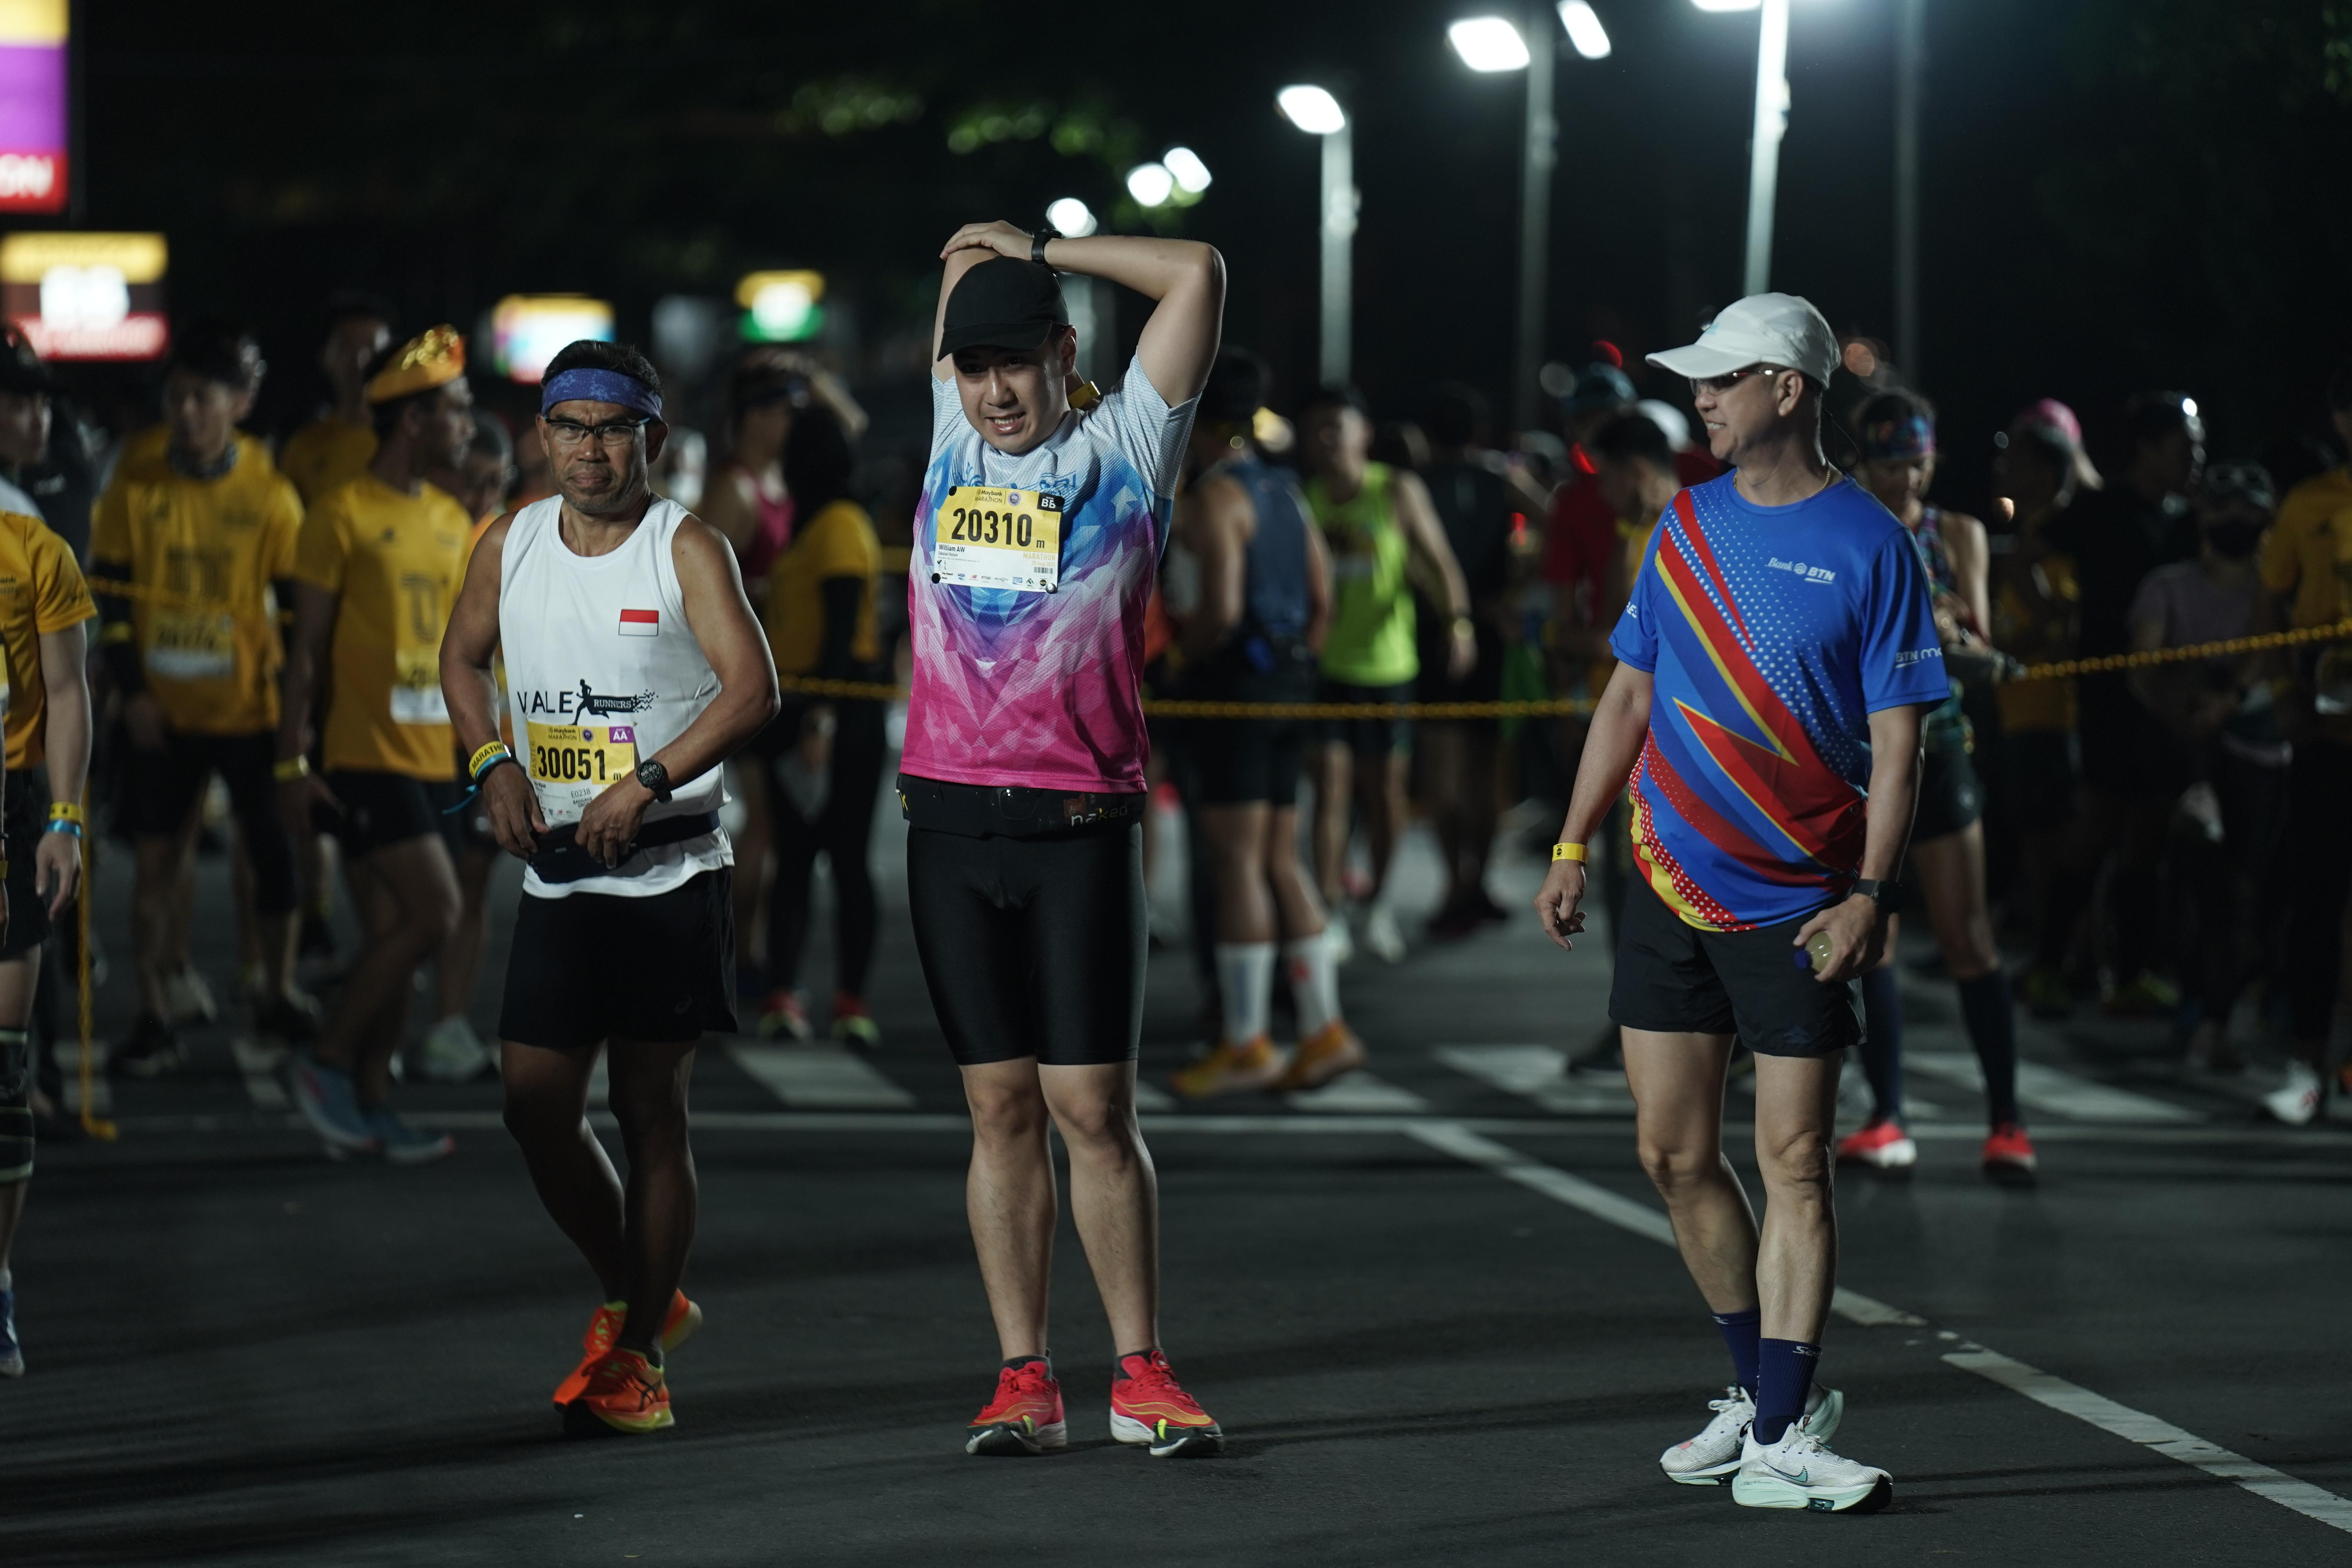bib: (936, 487, 1062, 590), (521, 719, 637, 803), (152, 614, 235, 679), (392, 651, 453, 723)
